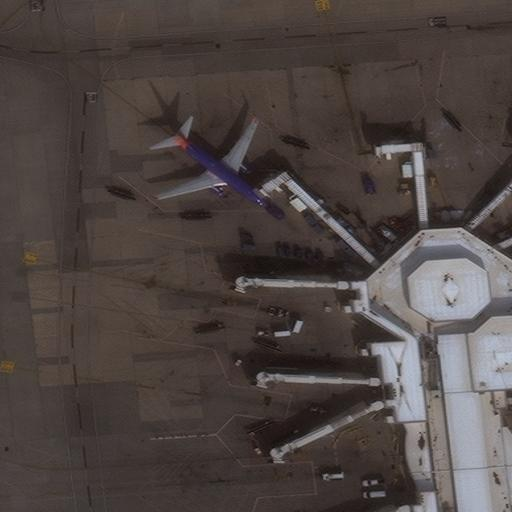Medium Civil Transport: (156, 120, 267, 207)
